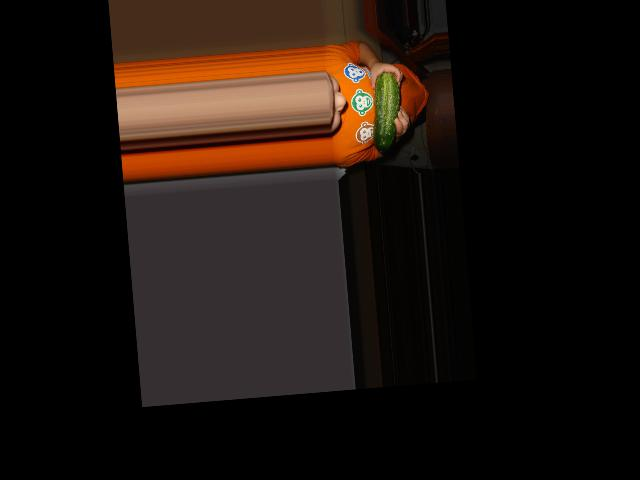cucumber: (368, 70, 404, 152)
